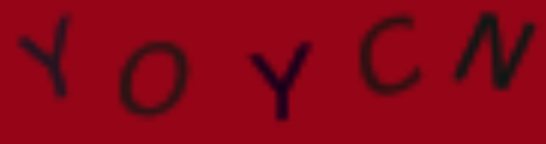C: (356, 14, 425, 98)
N: (449, 10, 540, 92)
O: (116, 40, 192, 121)
Y: (246, 39, 317, 126), (15, 12, 77, 100)
